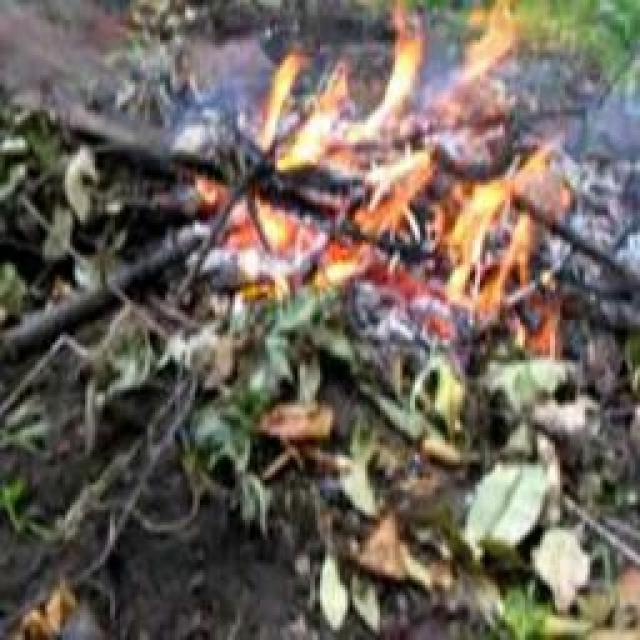Fire: (216, 15, 584, 304)
